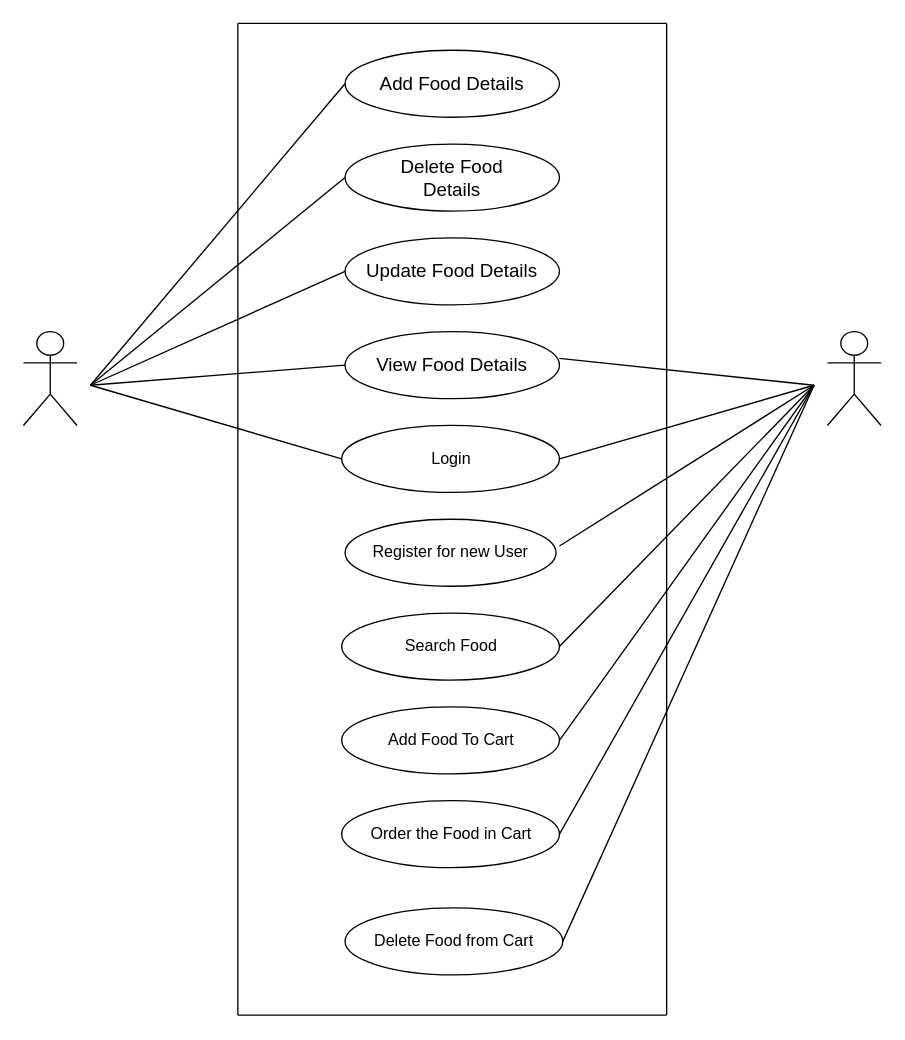
Some shapes in this 905 by 1040 pixel diagram are drawn without their labels. Each missing label, with the centre of its shape:
"Admin" belongs at pixel 49 377.
"User" belongs at pixel 853 377.
